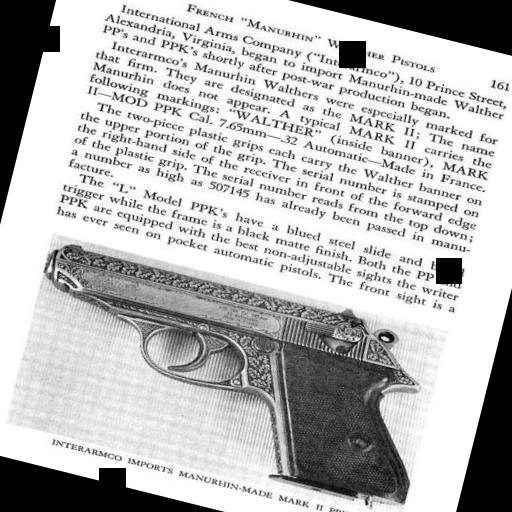Handgun: (6, 236, 450, 512)
